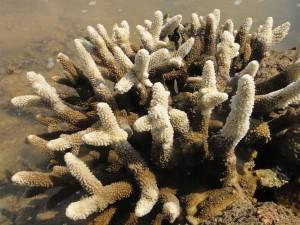bleached_corals: (11, 9, 300, 225)
